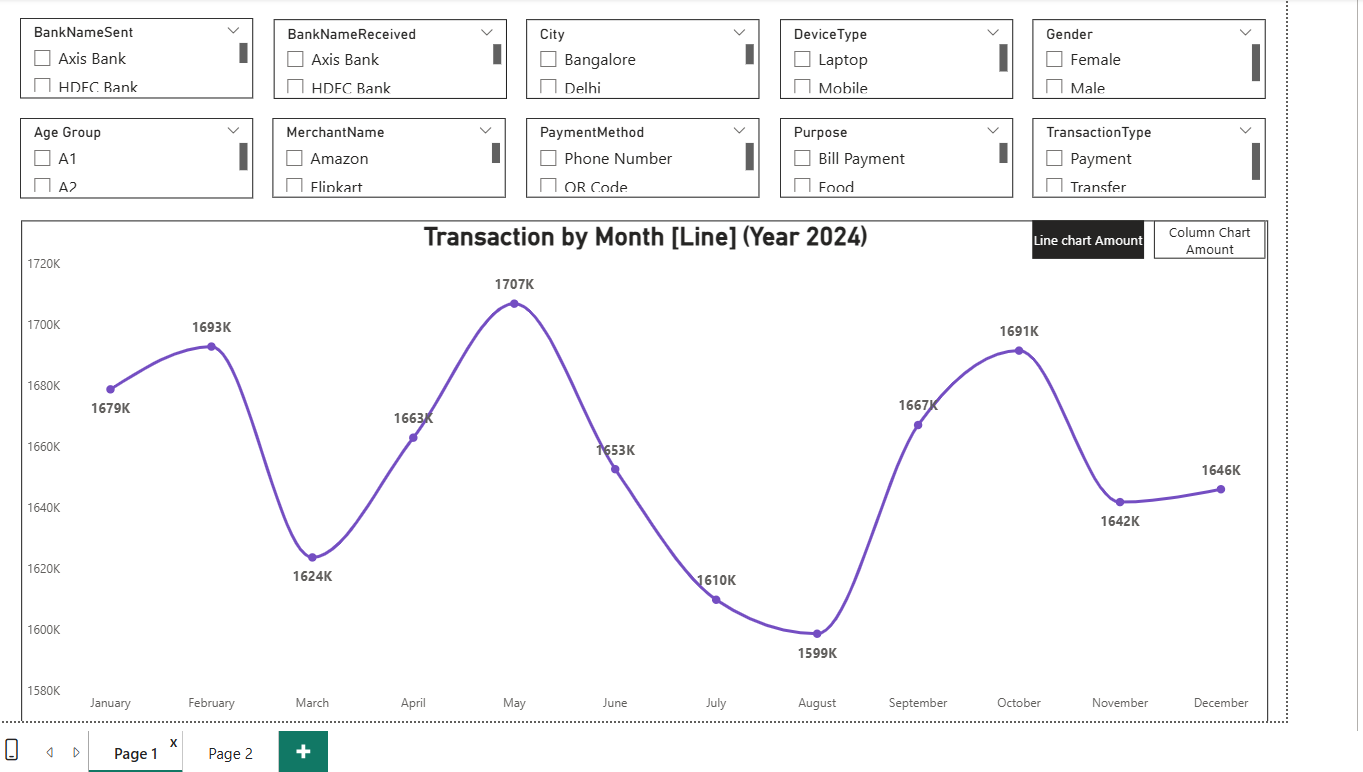

Layout of this report page (visuals, bound fields, positions):
{"tool":"powerbi","page":{"name":"Page 1","canvas":[1280,720],"ordinal":0},"visuals":[{"type":"slicer","fields":{"Values":["Sheet1.BankNameSent"]},"box":[20,20,232,80],"z":0},{"type":"slicer","fields":{"Values":["Sheet1.BankNameReceived"]},"box":[272,20.6,231.9,79.6],"z":1000},{"type":"slicer","fields":{"Values":["Sheet1.City"]},"box":[524,20.6,231.9,79.6],"z":2000},{"type":"slicer","fields":{"Values":["Sheet1.DeviceType"]},"box":[776,20.6,231.9,79.6],"z":3000},{"type":"slicer","fields":{"Values":["Sheet1.Gender"]},"box":[1028,20.6,231.9,79.6],"z":4000},{"type":"slicer","fields":{"Values":["Sheet1.Age Group"]},"box":[20,120,232,80],"z":5000},{"type":"slicer","fields":{"Values":["Sheet1.MerchantName"]},"box":[271.7,119.4,231.9,79.6],"z":6000},{"type":"slicer","fields":{"Values":["Sheet1.PaymentMethod"]},"box":[524.2,119.4,231.9,79.6],"z":7000},{"type":"slicer","fields":{"Values":["Sheet1.Purpose"]},"box":[776.7,119.4,231.9,79.6],"z":8000},{"type":"slicer","fields":{"Values":["Sheet1.TransactionType"]},"box":[1027.8,119.4,231.9,79.6],"z":9000},{"type":"lineChart","title":"Transaction by Month [Line] (Year 2024)","fields":{"Y":["Sum(Sheet1.Amount)"],"Category":["Sheet1.TransactionDate.Variation.Date Hierarchy.Month"]},"box":[20.6,220.9,1240.5,499.5],"z":10000},{"type":"bookmarkNavigator","box":[1027.5,221.4,232.6,38.6],"z":12000}]}

Visuals, with their boxes on the page's 1280x720 design canvas (x1, y1, x2, y2). These are canvas units, not pixel positions in the 1363x772 screenshot, which may show the page scaled, cropped or inside an application window:
slicer - Sheet1.BankNameSent: [x1=20, y1=20, x2=252, y2=100]
slicer - Sheet1.BankNameReceived: [x1=272, y1=21, x2=504, y2=100]
slicer - Sheet1.City: [x1=524, y1=21, x2=756, y2=100]
slicer - Sheet1.DeviceType: [x1=776, y1=21, x2=1008, y2=100]
slicer - Sheet1.Gender: [x1=1028, y1=21, x2=1260, y2=100]
slicer - Sheet1.Age Group: [x1=20, y1=120, x2=252, y2=200]
slicer - Sheet1.MerchantName: [x1=272, y1=119, x2=504, y2=199]
slicer - Sheet1.PaymentMethod: [x1=524, y1=119, x2=756, y2=199]
slicer - Sheet1.Purpose: [x1=777, y1=119, x2=1009, y2=199]
slicer - Sheet1.TransactionType: [x1=1028, y1=119, x2=1260, y2=199]
"Transaction by Month [Line] (Year 2024)" lineChart: [x1=21, y1=221, x2=1261, y2=720]
bookmarkNavigator: [x1=1028, y1=221, x2=1260, y2=260]
